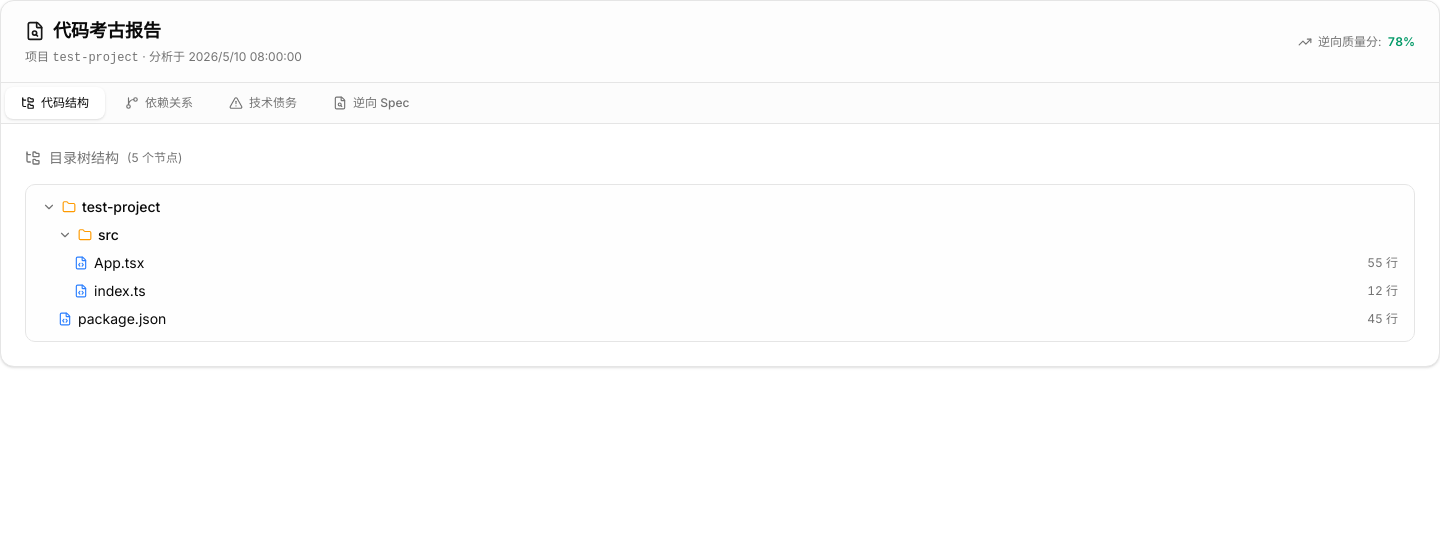
it: ArchaeologyReport › shows production and dev dependencies
Click the button "依赖关系".
click(159, 103)  # box left=109, top=87, right=209, bottom=119
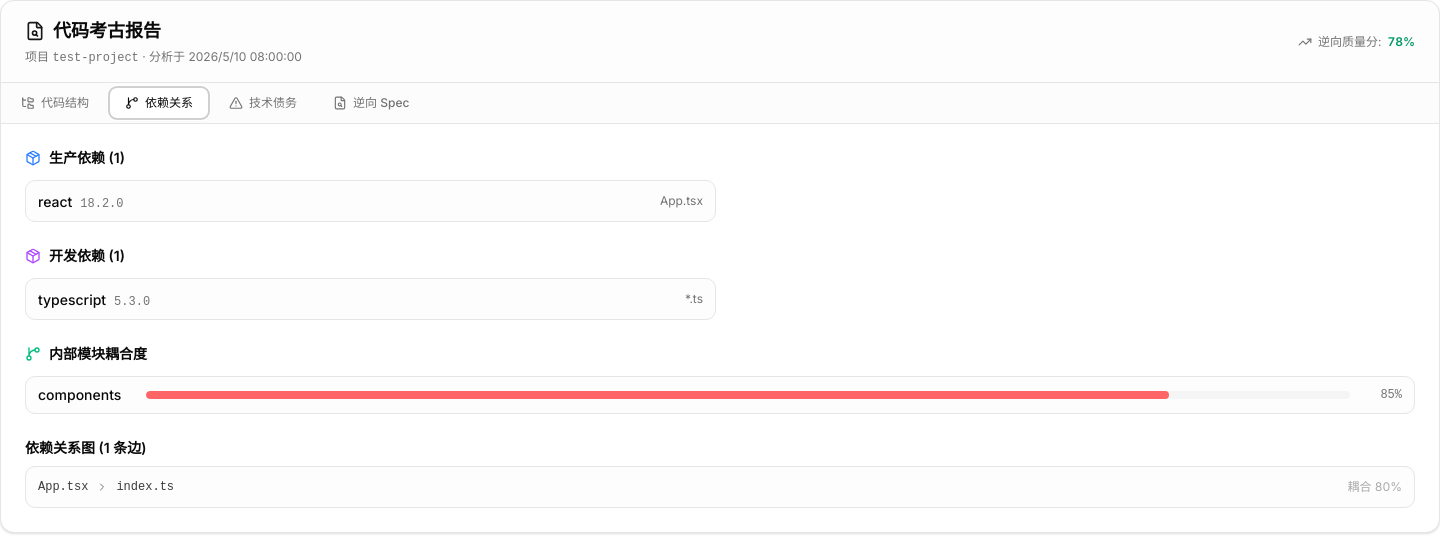
Check: the text "react" is shown, box left=38, top=193, right=72, bottom=210
Check: the text "typescript" is shown, box left=38, top=291, right=106, bottom=308
